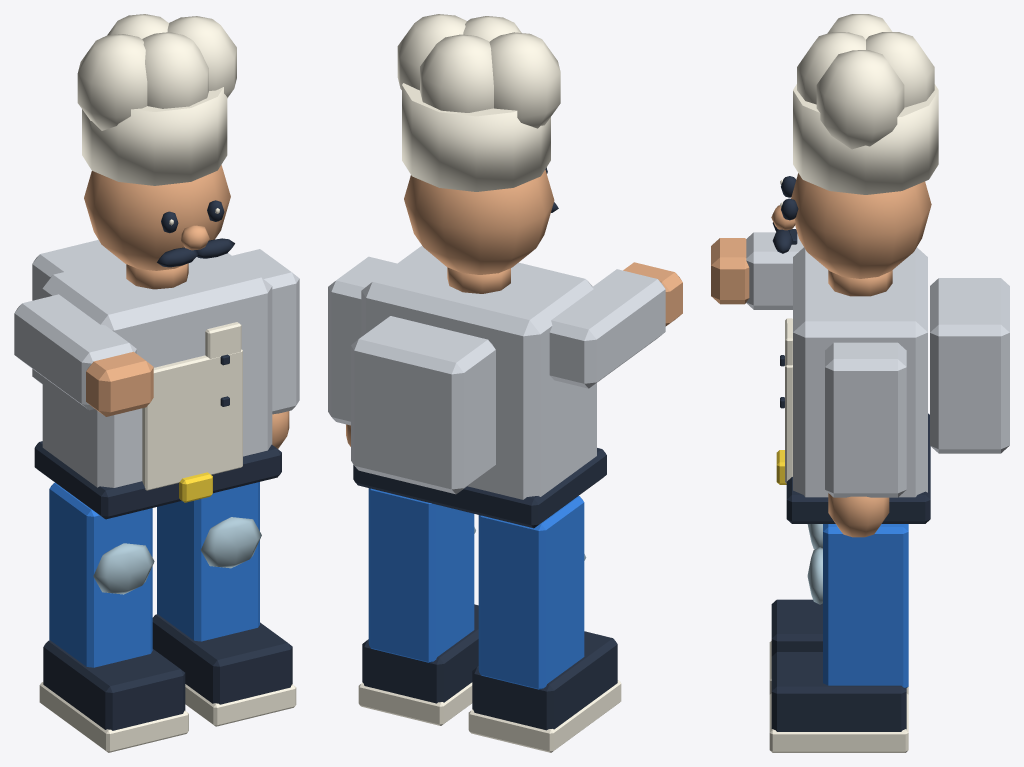
The model's file is fps_char_6.glb.
The picture shows the model from 3 angles, left to right: view 1: azimuth 30°, elevation 25°; view 2: azimuth 150°, elevation 25°; view 3: azimuth 270°, elevation 25°; orthographic projection. The views are drawn at different scales.
Visible parts, largest first — view 1: detail_Vanilla plastic, detail_Paint, detail_Blueberry, detail_Ink navy, head_core, detail_Toy silver, right_hand, detail_Warm vinyl, Buckle; view 2: detail_Paint, detail_Blueberry, detail_Vanilla plastic, detail_Ink navy, head_core, right_hand, detail_Warm vinyl; view 3: detail_Paint, detail_Vanilla plastic, detail_Ink navy, detail_Blueberry, head_core, detail_Warm vinyl, right_hand, detail_Toy silver.
Part boxes in pixels (x1,y1,x2,y2): detail_Vanilla plastic: [39, 14, 296, 752]; detail_Paint: [14, 240, 299, 487]; detail_Blueberry: [49, 482, 259, 667]; detail_Ink navy: [34, 200, 292, 730]; head_core: [84, 165, 230, 270]; detail_Toy silver: [93, 517, 261, 594]; right_hand: [86, 351, 153, 416]; detail_Warm vinyl: [126, 225, 289, 448]; Buckle: [179, 472, 212, 502]; detail_Paint: [328, 246, 665, 499]; detail_Blueberry: [368, 488, 584, 689]; detail_Vanilla plastic: [358, 14, 621, 752]; detail_Ink navy: [353, 168, 617, 730]; head_core: [404, 169, 554, 274]; right_hand: [623, 262, 682, 326]; detail_Warm vinyl: [346, 267, 510, 446]; detail_Paint: [746, 232, 1009, 497]; detail_Vanilla plastic: [769, 14, 938, 752]; detail_Ink navy: [771, 176, 930, 731]; detail_Blueberry: [823, 524, 908, 687]; head_core: [791, 173, 931, 278]; detail_Warm vinyl: [771, 205, 892, 537]; right_hand: [711, 238, 749, 304]; detail_Toy silver: [807, 524, 822, 604].
Size of the model in its own units: 0.84 by 2.09 by 0.84.
